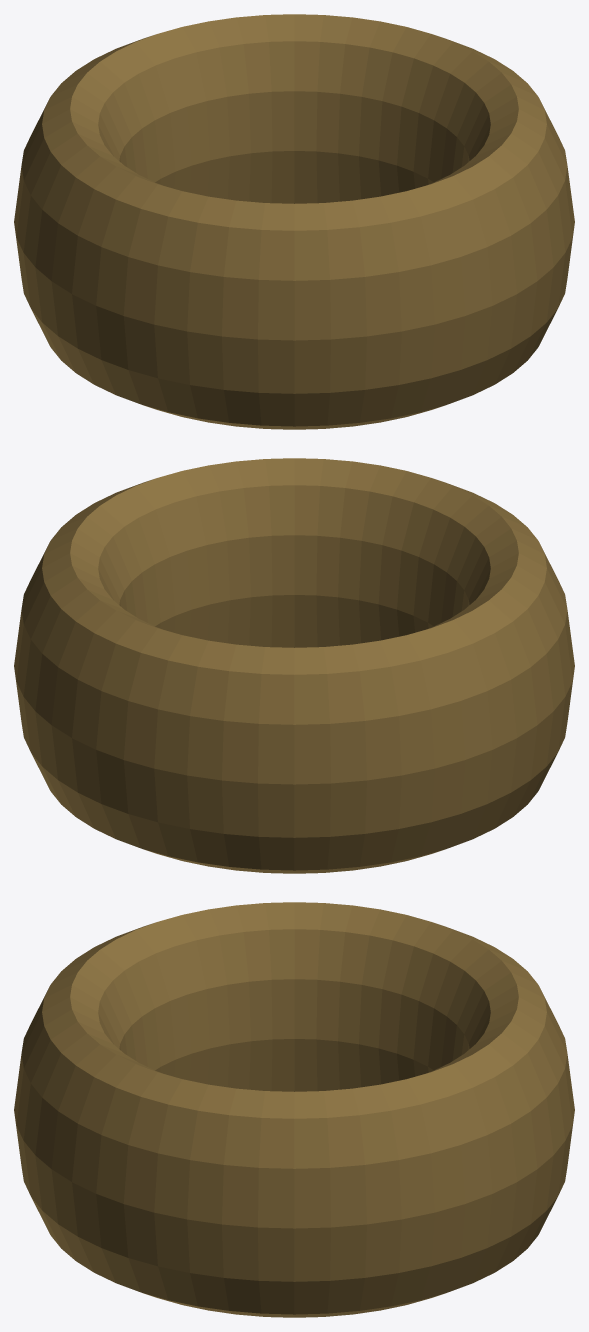
The picture shows the model from 3 angles, top to bottom: view 1: azimuth 30°, elevation 25°; view 2: azimuth 150°, elevation 25°; view 3: azimuth 270°, elevation 25°; orthographic projection.
Visible parts, largest first — view 1: wheel_right_back_back_000; view 2: wheel_right_back_back_000; view 3: wheel_right_back_back_000.
Boxes of the visible parts, left/top/right/bottom form: wheel_right_back_back_000: left=14, top=14, right=574, bottom=429; wheel_right_back_back_000: left=14, top=458, right=574, bottom=873; wheel_right_back_back_000: left=14, top=902, right=574, bottom=1317.
Size of the model in its own units: 0.675 by 0.675 by 0.3.
